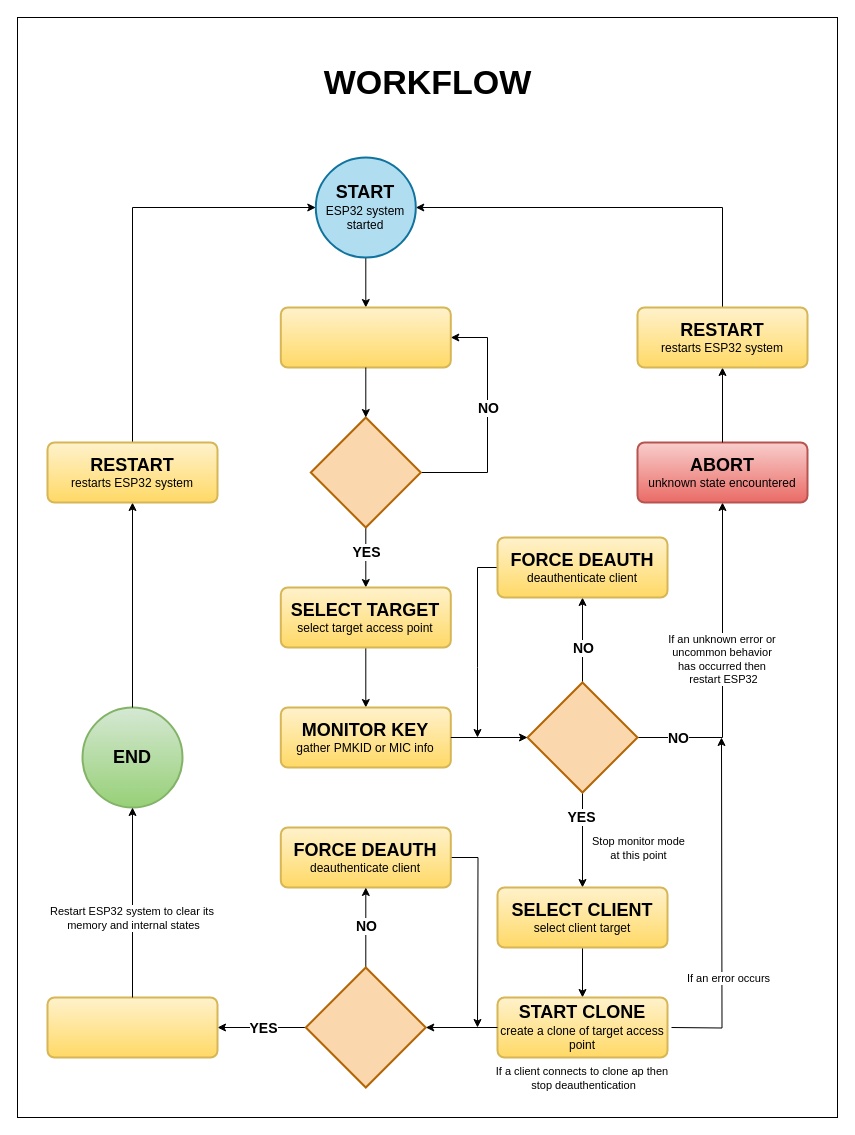
Image size: 855x1135. Some labels were removed from this diagram. The box of each missing label's shape, as (x1, y1, x2, y2) in pixels:
Found access points?: (309, 416, 421, 528)
Found MIC or PMKID?: (526, 681, 638, 793)
SCAN scan for nearby access point: (279, 306, 451, 368)
STOP CLONE stop cloning target access point: (46, 996, 218, 1058)
Target client surrender password?: (304, 966, 426, 1088)
